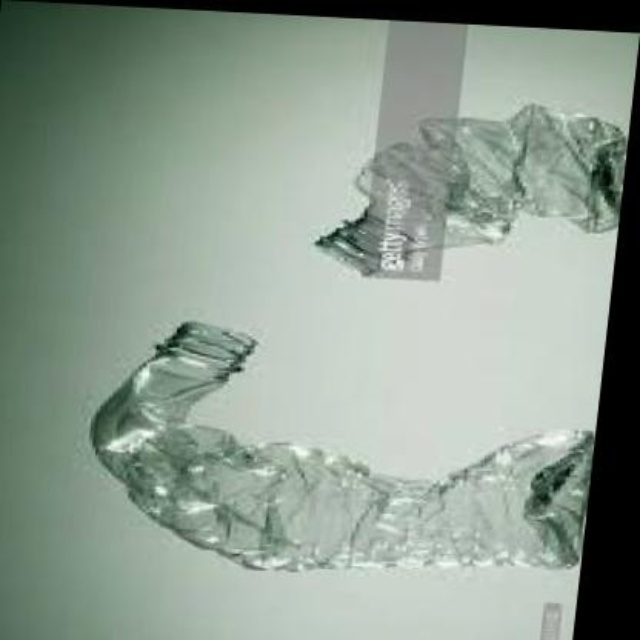trash: (91, 322, 592, 569), (315, 103, 625, 278)
